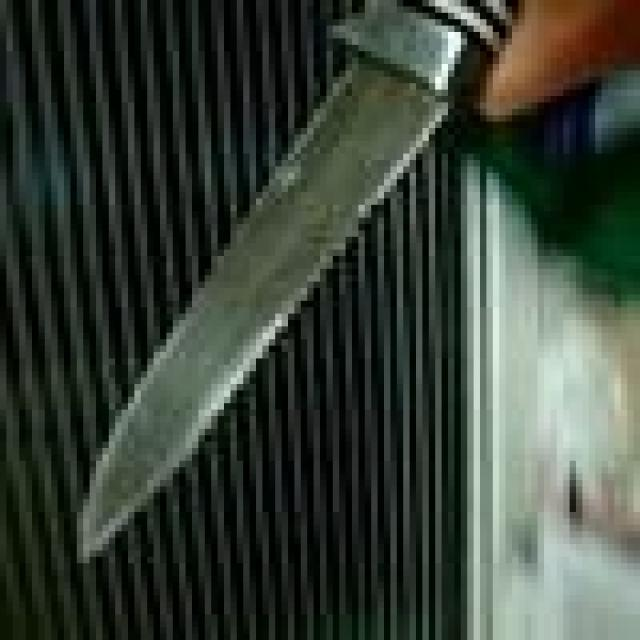senjata_tajam: (74, 0, 516, 567)
